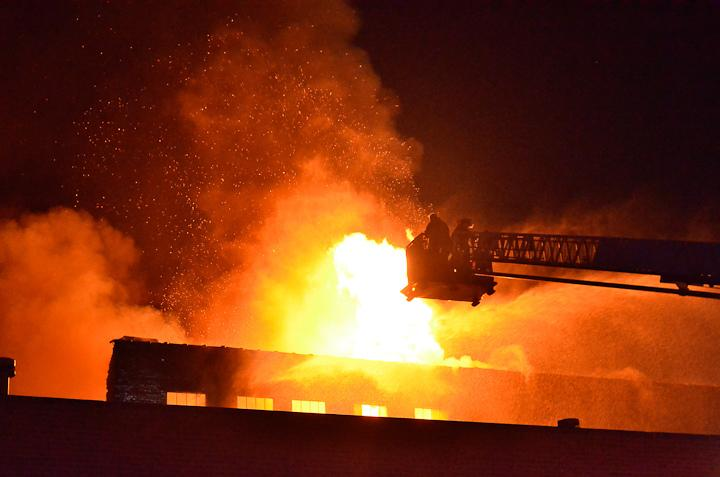fire: (313, 240, 406, 352)
